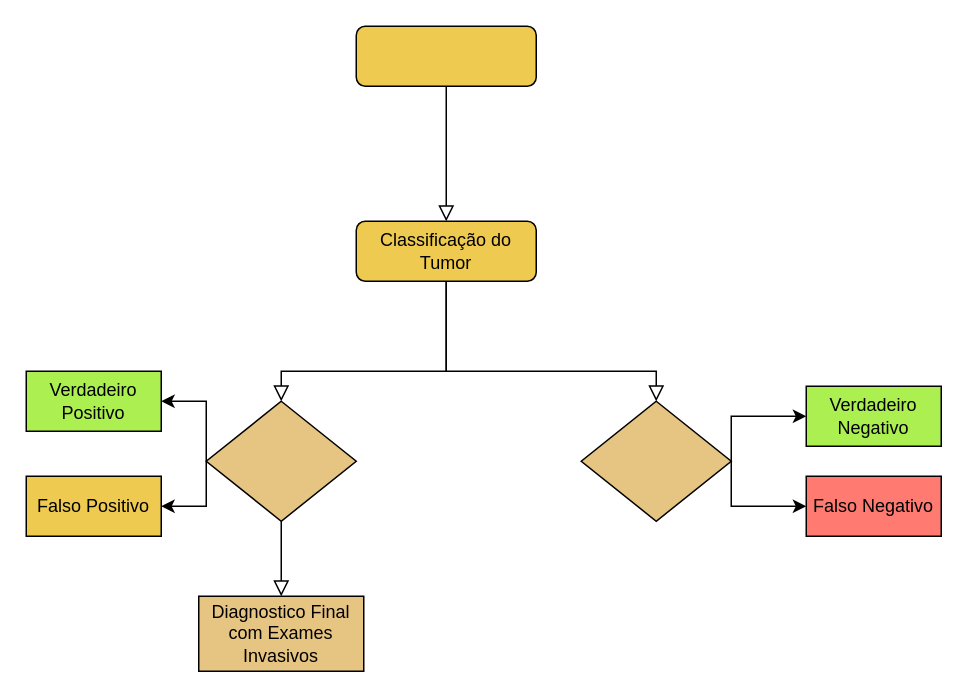
The diagram is 968 pixels wide and 698 high, and some of its shapes have lost their labels. The box of each missing label's shape, as (x1, y1, x2, y2) in pixels:
Dados do Paciente: (355, 25, 536, 86)
Negativo: (580, 400, 731, 521)
Positivo: (205, 400, 356, 521)
